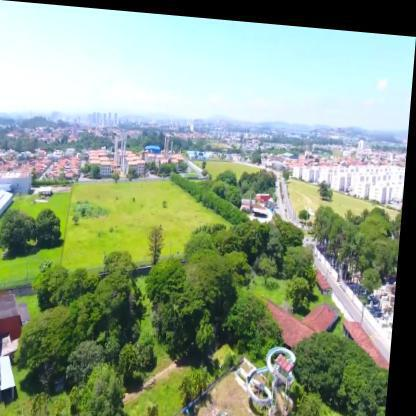agua: (210, 409, 253, 415)
